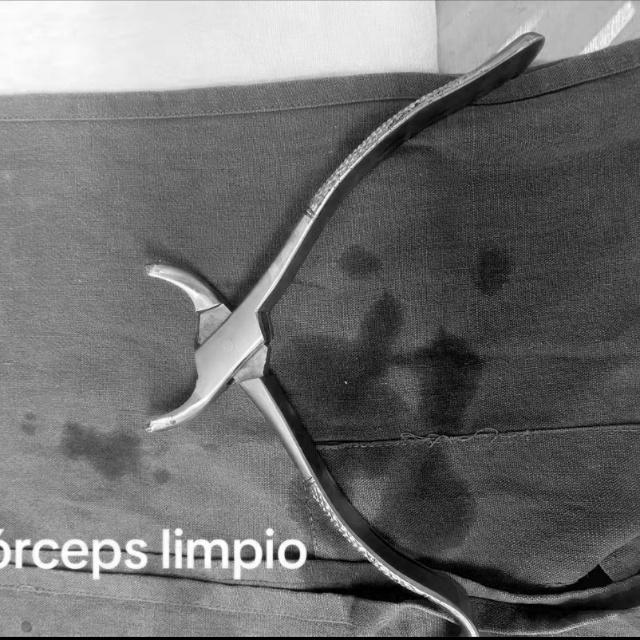forceps: (144, 34, 547, 637)
